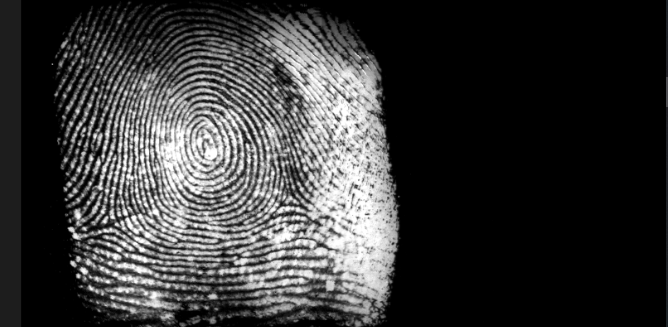nucelo: (193, 132, 215, 158)
verticilo: (99, 210, 121, 233), (279, 186, 301, 209)
